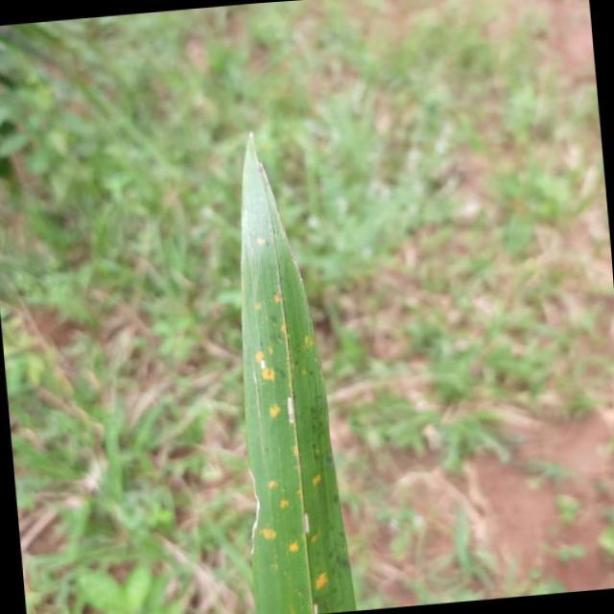Kalium: (239, 124, 366, 614)
